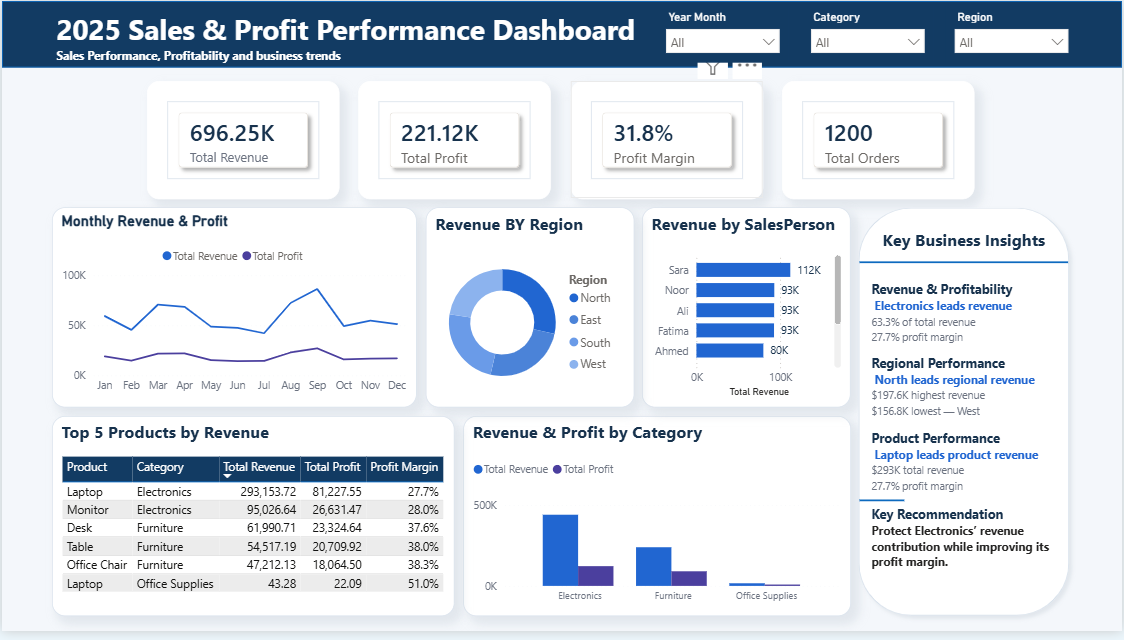

The dashboard page shown, as its layout file describes it:
{"tool":"powerbi","page":{"name":"Page 1","canvas":[1280,720],"ordinal":0},"visuals":[{"type":"shape","box":[0,0,1280,76],"z":0},{"type":"textbox","box":[57.1,5.7,1140,75.7],"z":1000},{"type":"cardVisual","fields":{"Data":["_Measures.Total Revenue"]},"box":[165.7,90.9,220,135],"z":2000},{"type":"cardVisual","fields":{"Data":["_Measures.Total Profit"]},"box":[407.8,90.9,220,135],"z":3000},{"type":"cardVisual","fields":{"Data":["_Measures.Profit Margin"]},"box":[649.9,90.9,220,135],"z":4000},{"type":"cardVisual","fields":{"Data":["_Measures.Total Orders"]},"box":[892,90.9,220,135],"z":5000},{"type":"lineChart","title":"Monthly Revenue & Profit","fields":{"Y":["_Measures.Total Revenue","_Measures.Total Profit"],"Category":["DateTable.Month"]},"box":[57.1,235.7,417.1,228.6],"z":6000},{"type":"clusteredColumnChart","title":"Revenue & Profit by Category","fields":{"Category":["Sales_Data.Category"],"Y":["_Measures.Total Revenue","_Measures.Total Profit"]},"box":[527.1,474.3,442.9,228.6],"z":7000},{"type":"barChart","title":"Revenue by SalesPerson","fields":{"Category":["Sales_Data.Salesperson"],"Y":["_Measures.Total Revenue"]},"box":[731.4,235.7,238.6,228.6],"z":8000},{"type":"slicer","fields":{"Values":["DateTable.Year Month"]},"box":[749,5.7,150,65],"z":9000},{"type":"slicer","fields":{"Values":["Sales_Data.Category"]},"box":[914,5.7,150,65],"z":10000},{"type":"slicer","fields":{"Values":["Sales_Data.Region"]},"box":[1079,5.7,150,65],"z":11000},{"type":"donutChart","title":"Revenue BY Region","fields":{"Category":["Sales_Data.Region"],"Y":["_Measures.Total Revenue"]},"box":[483.6,235.7,238.6,228.6],"z":12000},{"type":"tableEx","title":"Top 5 Products by Revenue","fields":{"Values":["Sales_Data.Product","Sales_Data.Category","_Measures.Total Revenue","_Measures.Total Profit","_Measures.Profit Margin"]},"box":[57.1,474.3,460,228.6],"z":13000},{"type":"shape","box":[970,227.1,258.6,484.3],"z":14000},{"type":"textbox","box":[997.1,255.7,204.3,44.3],"z":14001},{"type":"shape","box":[980,275.7,238.6,45.7],"z":14002},{"type":"textbox","box":[988.6,314.3,231.4,104.3],"z":14003},{"type":"textbox","box":[988.6,398.6,231.4,104.3],"z":14005},{"type":"textbox","box":[988.6,484.3,231.4,104.3],"z":14006},{"type":"textbox","box":[988.6,571.4,231.4,132.9],"z":14007},{"type":"shape","box":[980,495.7,51.4,150],"z":14008}]}

Visuals, with their boxes in screenshot pixels (x1, y1, x2, y2), scaled from the page's 1280x720 canvas onto the 1124x640 screenshot:
shape: l=0, t=0, r=1123, b=68
textbox: l=50, t=5, r=1051, b=72
cardVisual - _Measures.Total Revenue: l=146, t=81, r=339, b=201
cardVisual - _Measures.Total Profit: l=358, t=81, r=551, b=201
cardVisual - _Measures.Profit Margin: l=571, t=81, r=764, b=201
cardVisual - _Measures.Total Orders: l=783, t=81, r=976, b=201
"Monthly Revenue & Profit" lineChart: l=50, t=210, r=416, b=413
"Revenue & Profit by Category" clusteredColumnChart: l=463, t=422, r=852, b=625
"Revenue by SalesPerson" barChart: l=642, t=210, r=852, b=413
slicer - DateTable.Year Month: l=658, t=5, r=789, b=63
slicer - Sales_Data.Category: l=803, t=5, r=934, b=63
slicer - Sales_Data.Region: l=947, t=5, r=1079, b=63
"Revenue BY Region" donutChart: l=425, t=210, r=634, b=413
"Top 5 Products by Revenue" tableEx: l=50, t=422, r=454, b=625
shape: l=852, t=202, r=1079, b=632
textbox: l=876, t=227, r=1055, b=267
shape: l=861, t=245, r=1070, b=286
textbox: l=868, t=279, r=1071, b=372
textbox: l=868, t=354, r=1071, b=447
textbox: l=868, t=430, r=1071, b=523
textbox: l=868, t=508, r=1071, b=626
shape: l=861, t=441, r=906, b=574
